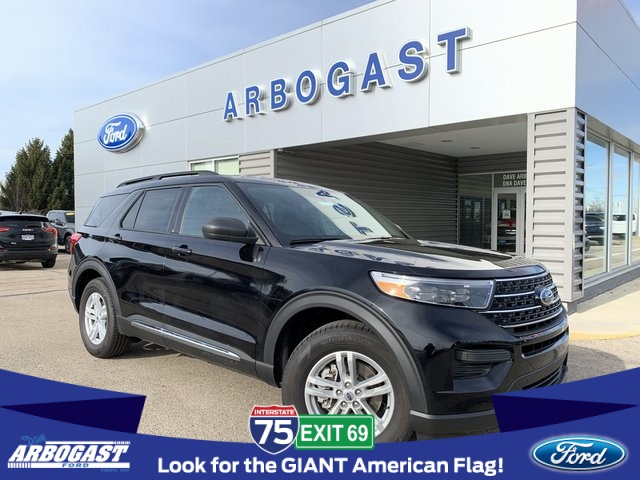Ford Explorer: (69, 172, 569, 462)
